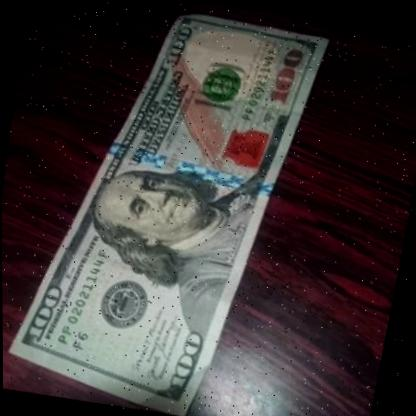one_hundred-front: (0, 0, 340, 416)
